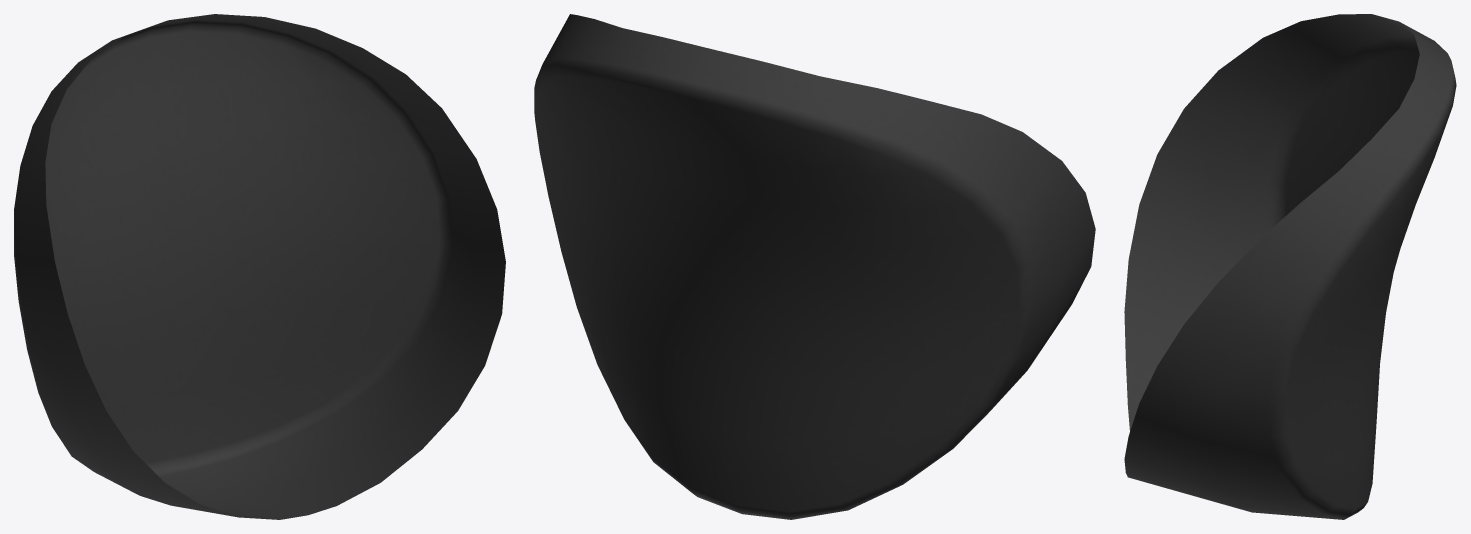
The model's file is oculus_quest_controller_right_trigger.obj.
3 views of the same model, side by side, from view 1: azimuth 30°, elevation 25°; view 2: azimuth 150°, elevation 25°; view 3: azimuth 270°, elevation 25° (orthographic). The views are drawn at different scales.
Bounding box in the file's own units: 0.0261 × 0.0249 × 0.017.
